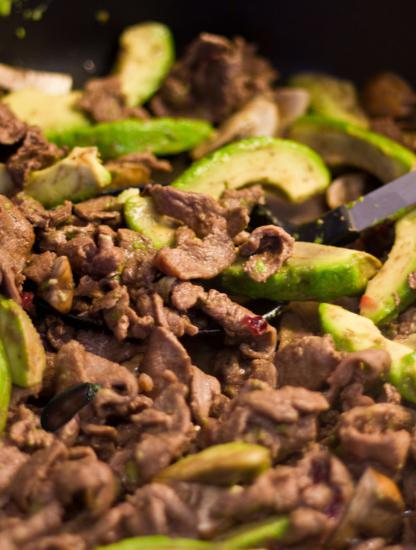Eggplant: (31, 366, 107, 442)
